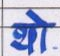i_matra: (36, 14, 49, 53)
